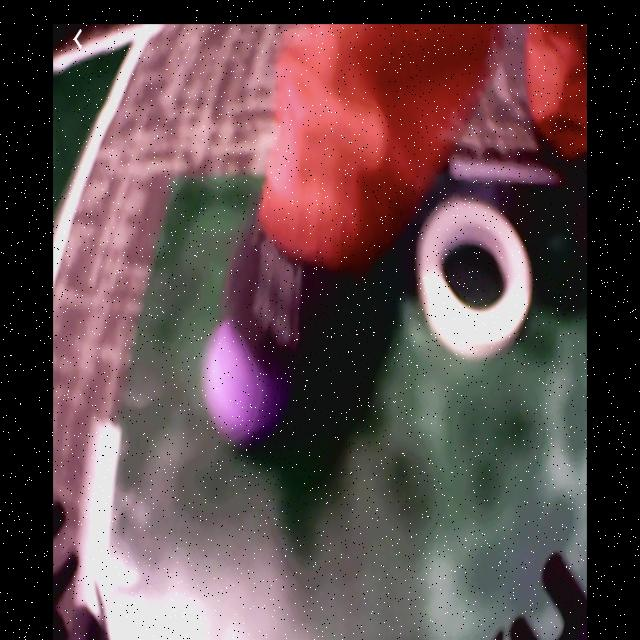ball: (203, 322, 281, 444)
